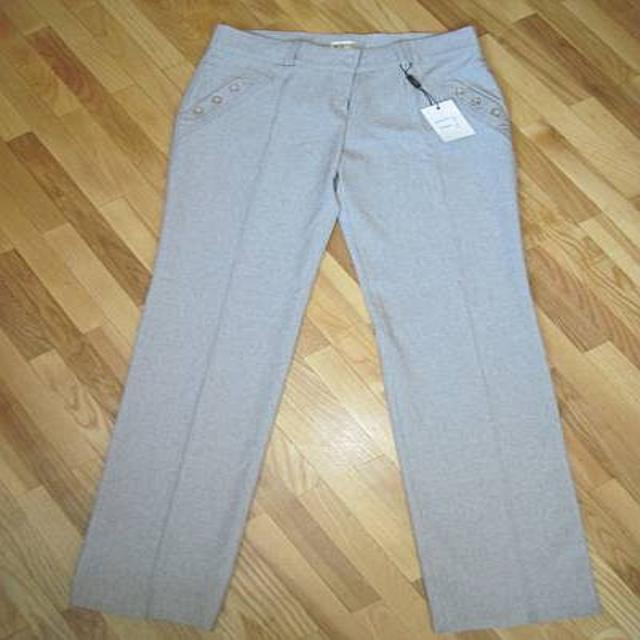TROUSER: (57, 12, 616, 636)
